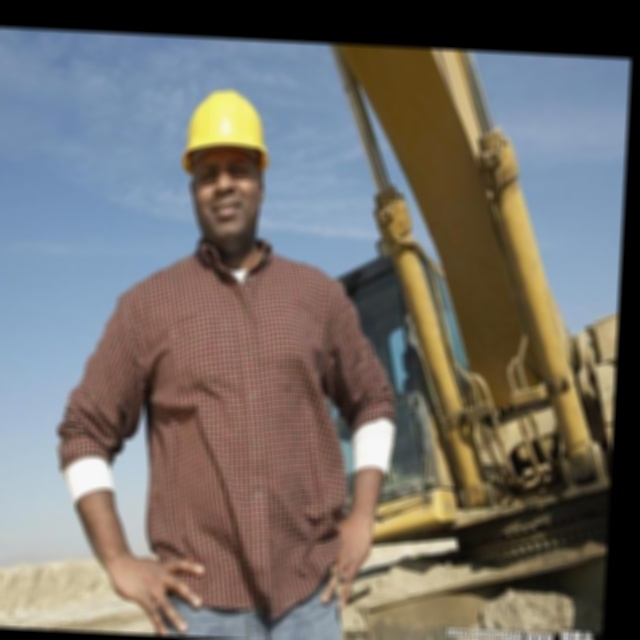Con_Casco: (176, 71, 268, 245)
Sin_Chaleco: (95, 251, 360, 609)
